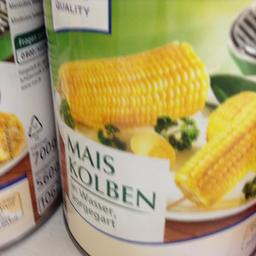corn: (40, 0, 254, 254)
